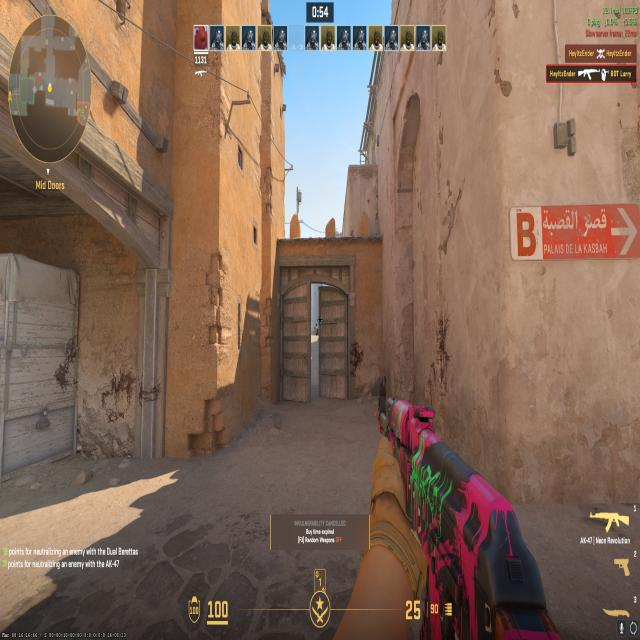t: (312, 321, 319, 336)
